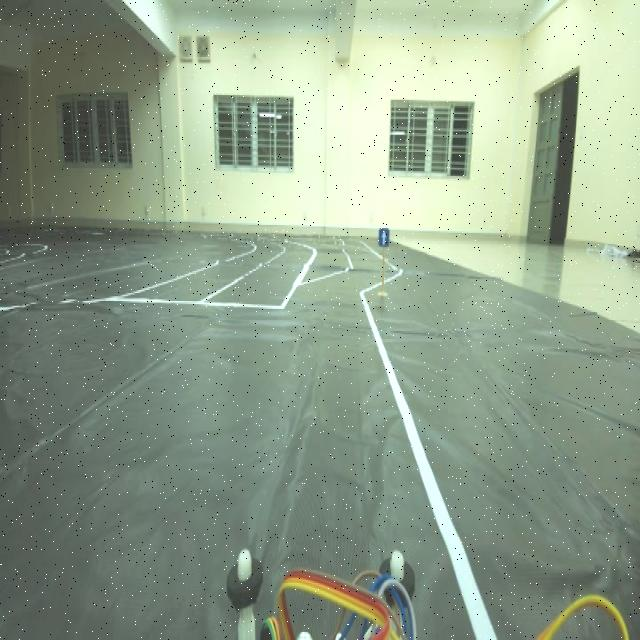onewayroad: (376, 219, 394, 259)
